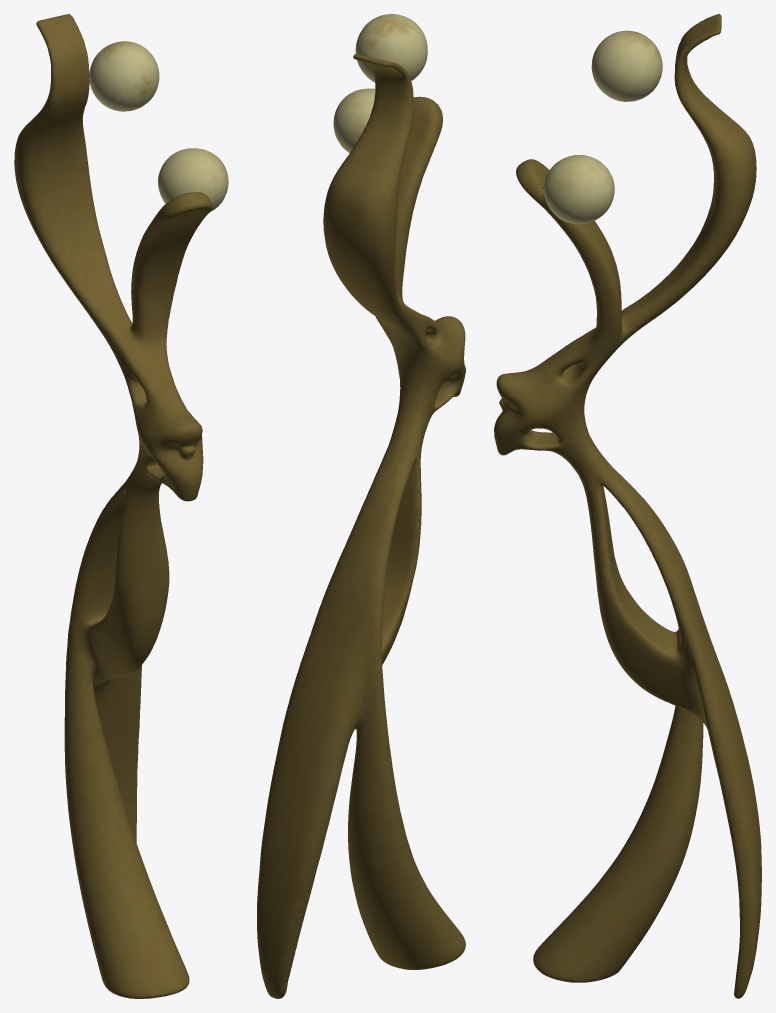
File: organic-bronze-floor-lamp.glb
3 views of the same model, side by side, from view 1: azimuth 30°, elevation 25°; view 2: azimuth 150°, elevation 25°; view 3: azimuth 270°, elevation 25° (orthographic). The views are drawn at different scales.
Visible parts, largest first — view 1: world; view 2: world; view 3: world.
Boxes of the visible parts, bbox=[...] form: world: bbox=[14, 14, 228, 998]; world: bbox=[257, 14, 465, 998]; world: bbox=[494, 14, 761, 998].
Size of the model in its own units: 0.1477 by 1 by 0.2604.
Materials: 1 (1 with a texture image).
